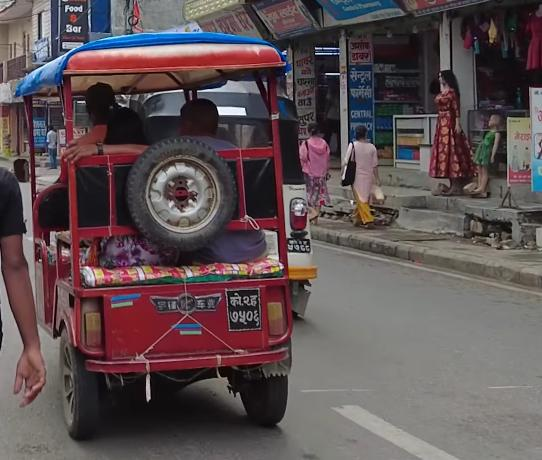e-rickshaw: (1, 28, 324, 450)
